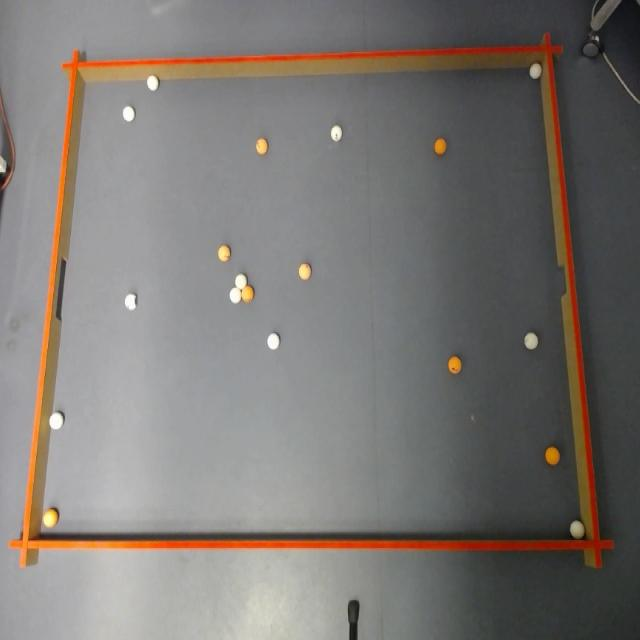orange_ball: (43, 508, 58, 528), (545, 447, 559, 465), (448, 356, 461, 374), (434, 138, 447, 155), (298, 263, 310, 279), (218, 246, 230, 262), (242, 286, 254, 302), (256, 138, 267, 155)
white_ball: (570, 520, 584, 539), (49, 412, 64, 429), (524, 332, 538, 350), (268, 333, 280, 350), (122, 106, 134, 122), (530, 63, 542, 79), (229, 288, 241, 304), (331, 125, 342, 142), (125, 294, 136, 310), (147, 76, 158, 90), (236, 274, 247, 288)
